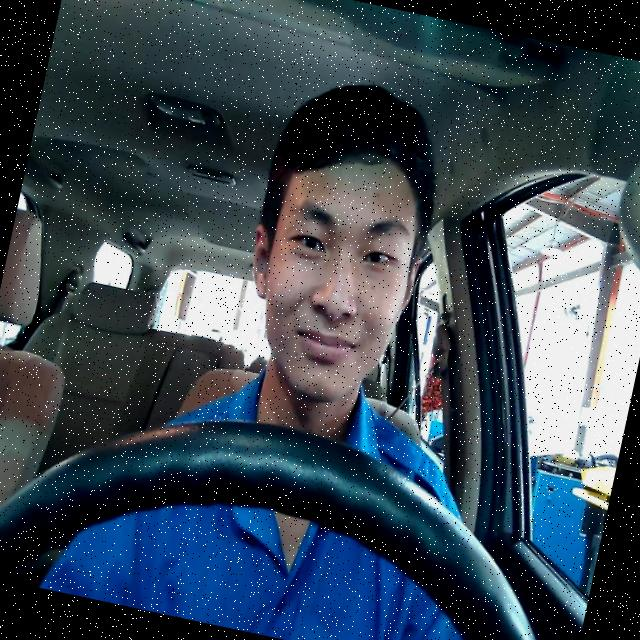focused: (222, 133, 439, 413)
